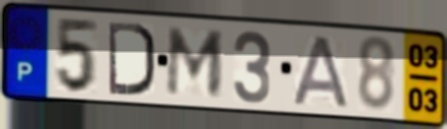3: (231, 28, 273, 105)
5: (53, 15, 101, 96)
8: (355, 34, 398, 116)
A: (290, 32, 352, 111)
D: (106, 18, 158, 98)
M: (163, 25, 228, 99)
